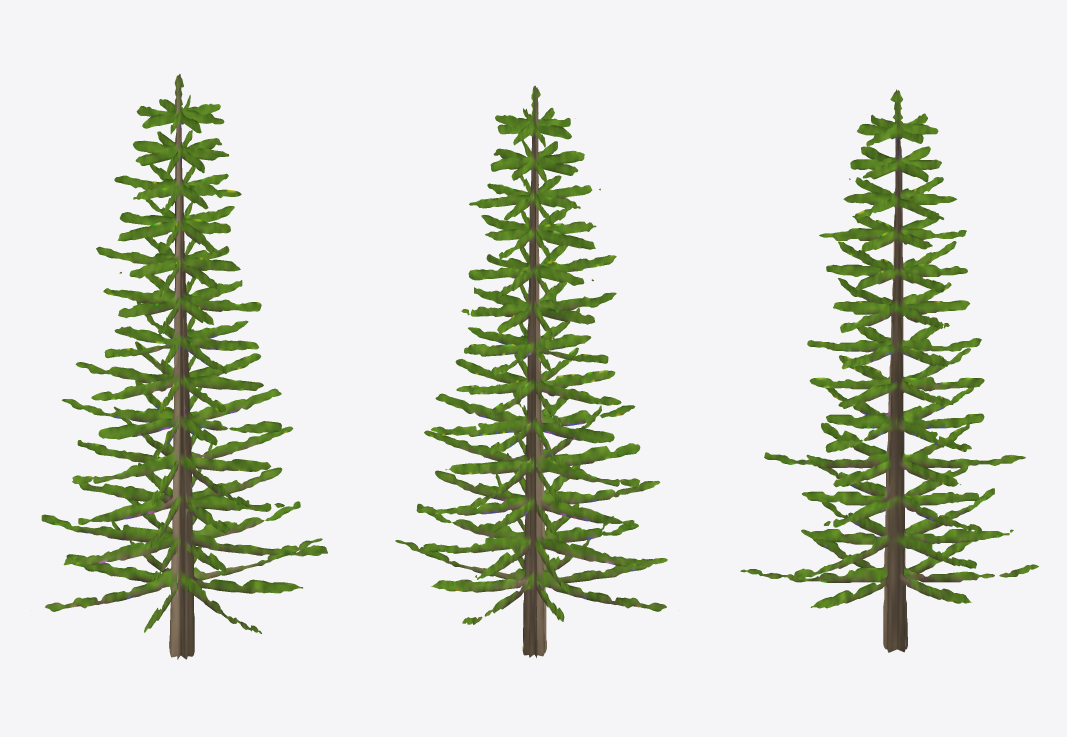
Rendered from b-fir.glb.
3 views of the same model, side by side, from view 1: azimuth 30°, elevation 25°; view 2: azimuth 150°, elevation 25°; view 3: azimuth 270°, elevation 25° (orthographic). The views are drawn at different scales.
Visible parts, largest first — view 1: BackgroundTree; view 2: BackgroundTree; view 3: BackgroundTree.
Part boxes in pixels (left/top/right/bottom): BackgroundTree: left=41, top=74, right=327, bottom=659; BackgroundTree: left=395, top=85, right=667, bottom=657; BackgroundTree: left=740, top=89, right=1038, bottom=652.
Size of the model in its own units: 1.4 by 2.45 by 1.32.
1 material, 1 textured.
